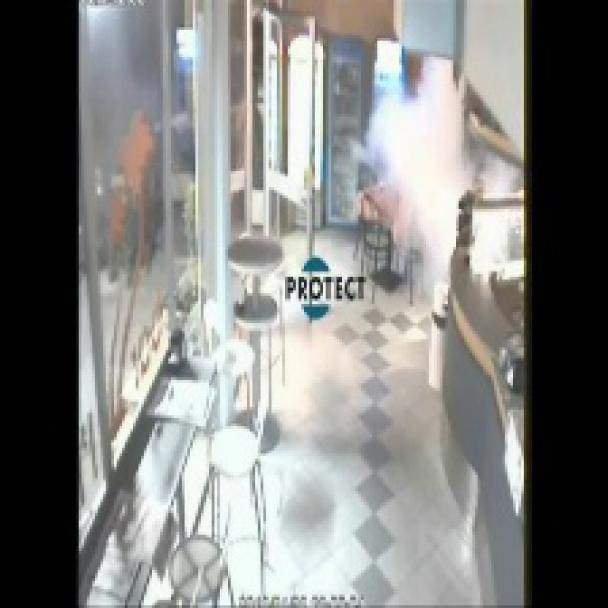smoke: (324, 15, 524, 321)
